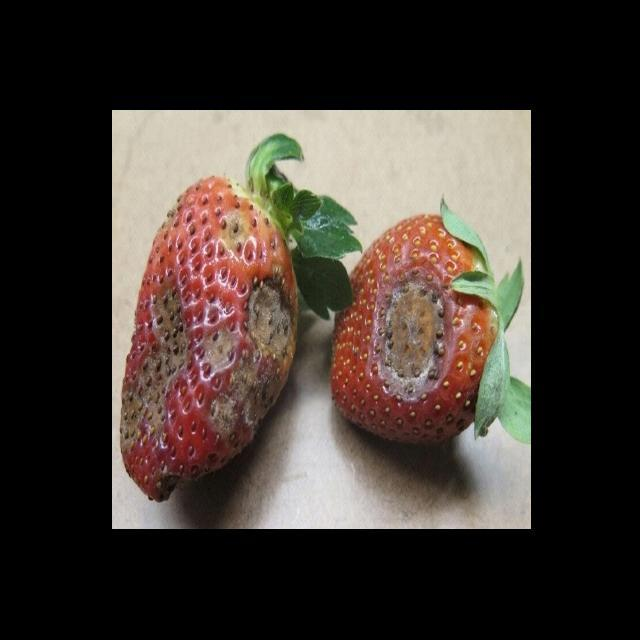Anthracnose Fruit Rot: (118, 263, 296, 505), (371, 259, 454, 406)
